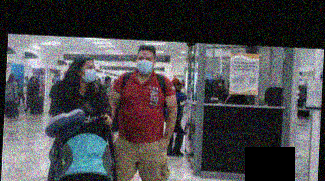with_mask: (80, 63, 97, 84), (136, 54, 153, 74)
